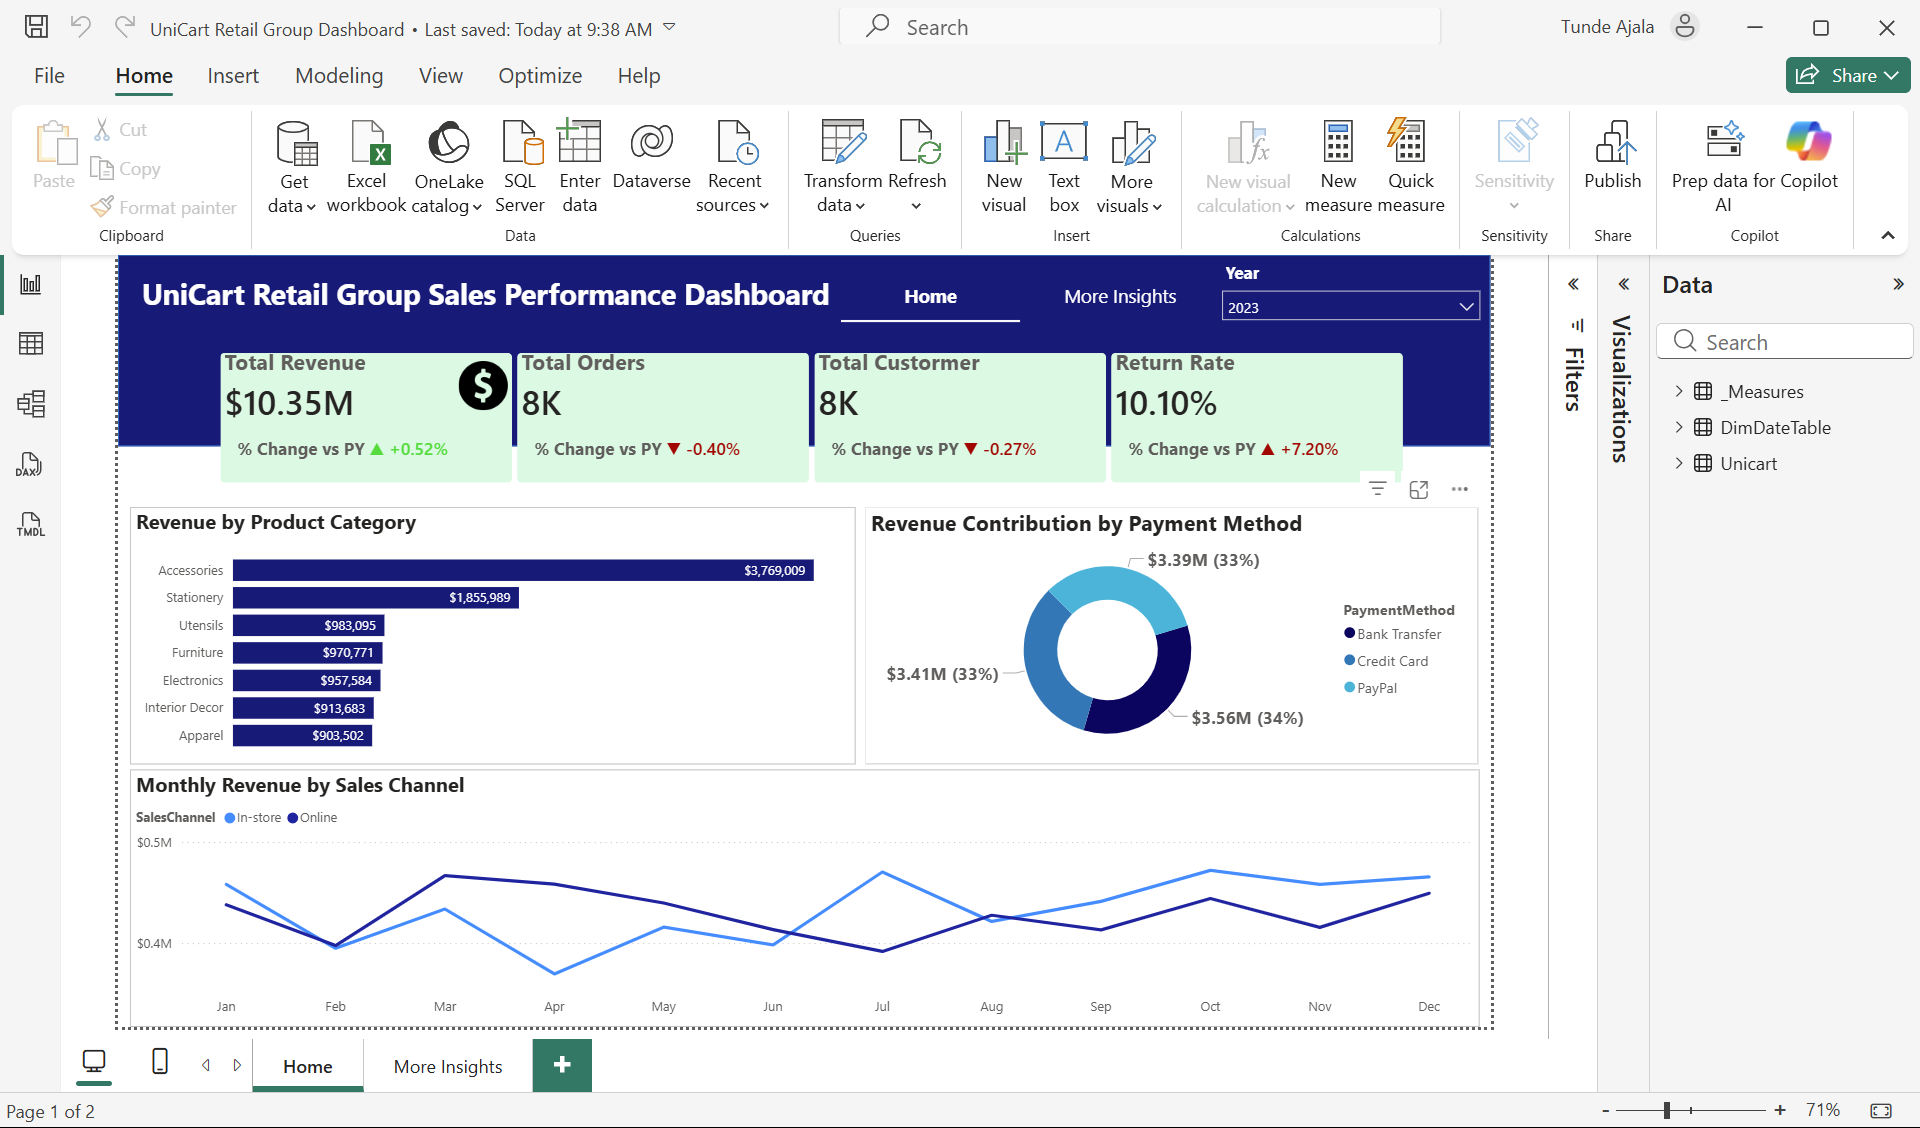

This screenshot's page, from the dashboard's own definition file:
{"tool":"powerbi","page":{"name":"Home","canvas":[1280,720],"ordinal":0},"visuals":[{"type":"shape","box":[0,0,1280,178.5],"z":0},{"type":"slicer","fields":{"Values":["DimDateTable.Year"]},"box":[1019.7,0,260.6,65.2],"z":1000},{"type":"cardVisual","fields":{"Data":["_Measures.Total Revenue","_Measures.Total Orders","_Measures.Total Custormer","_Measures.Return Rate"]},"box":[78.5,73.8,1138.5,155.4],"z":2000},{"type":"lineChart","title":"Monthly Revenue by Sales Channel","fields":{"Y":["_Measures.Total Revenue"],"Category":["DimDateTable.Month Name"],"Series":["Unicart.SalesChannel"]},"box":[10.8,480,1258.5,240],"z":3000},{"type":"barChart","title":"Revenue by Product Category","fields":{"Y":["_Measures.Total Revenue"],"Category":["Unicart.ProductCategory"]},"box":[10.8,235.4,676.9,240],"z":4000},{"type":"donutChart","title":"Revenue Contribution by Payment Method","fields":{"Category":["Unicart.PaymentMethod"],"Y":["_Measures.Total Revenue"]},"box":[696.9,235.4,572.3,240],"z":5000},{"type":"textbox","box":[10.6,12.1,663.6,53],"z":6000},{"type":"pageNavigator","box":[674.2,12.1,345.5,50],"z":7000}]}

Visuals, with their boxes on the page's 1280x720 design canvas (x1, y1, x2, y2). These are canvas units, not pixel positions in the 1920x1128 screenshot, which may show the page scaled, cropped or inside an application window:
shape: rect(0, 0, 1280, 178)
slicer - DimDateTable.Year: rect(1020, 0, 1280, 65)
cardVisual - _Measures.Total Revenue x _Measures.Total Orders: rect(78, 74, 1217, 229)
"Monthly Revenue by Sales Channel" lineChart: rect(11, 480, 1269, 720)
"Revenue by Product Category" barChart: rect(11, 235, 688, 475)
"Revenue Contribution by Payment Method" donutChart: rect(697, 235, 1269, 475)
textbox: rect(11, 12, 674, 65)
pageNavigator: rect(674, 12, 1020, 62)
